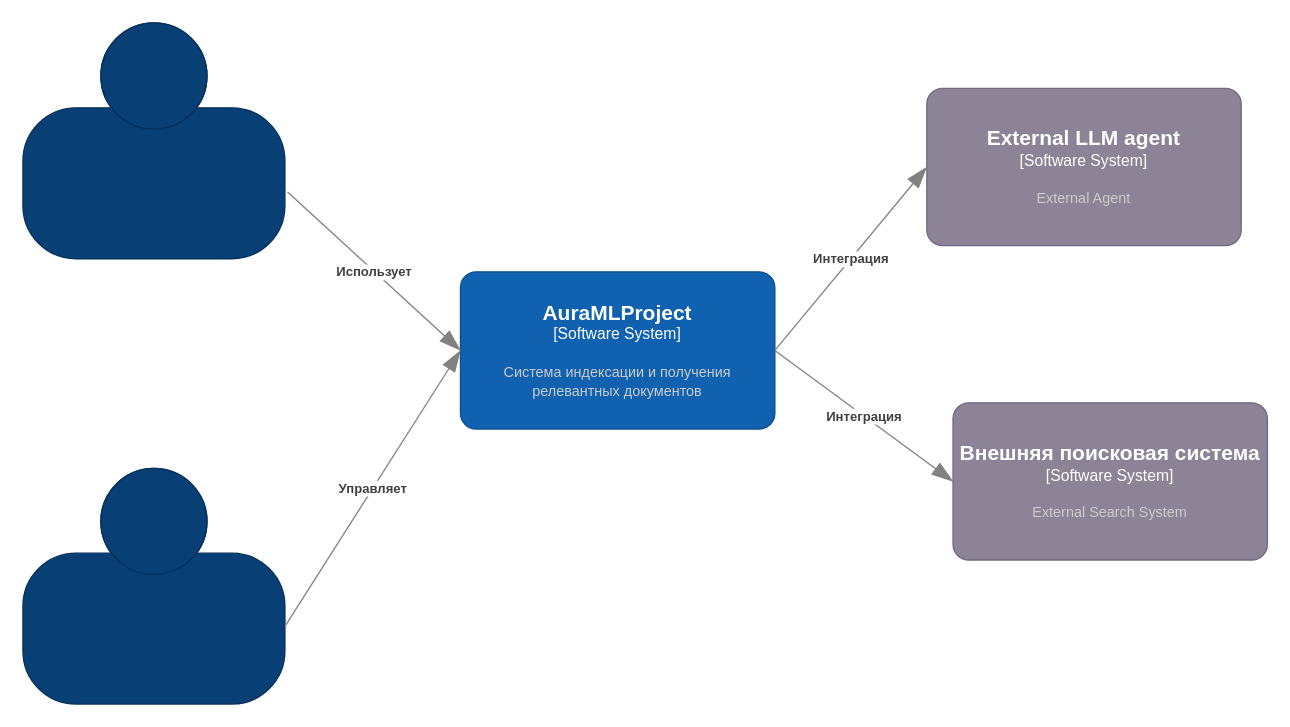
This 1290x727 diagram has some shape labels left out. Each missing label, with the centre of its shape:
"Администратор [Person] Description of person." belongs at [153,585].
"Клиент [Person|Agent] Индексирует документы в определённой базе знаний" belongs at [153,140].
